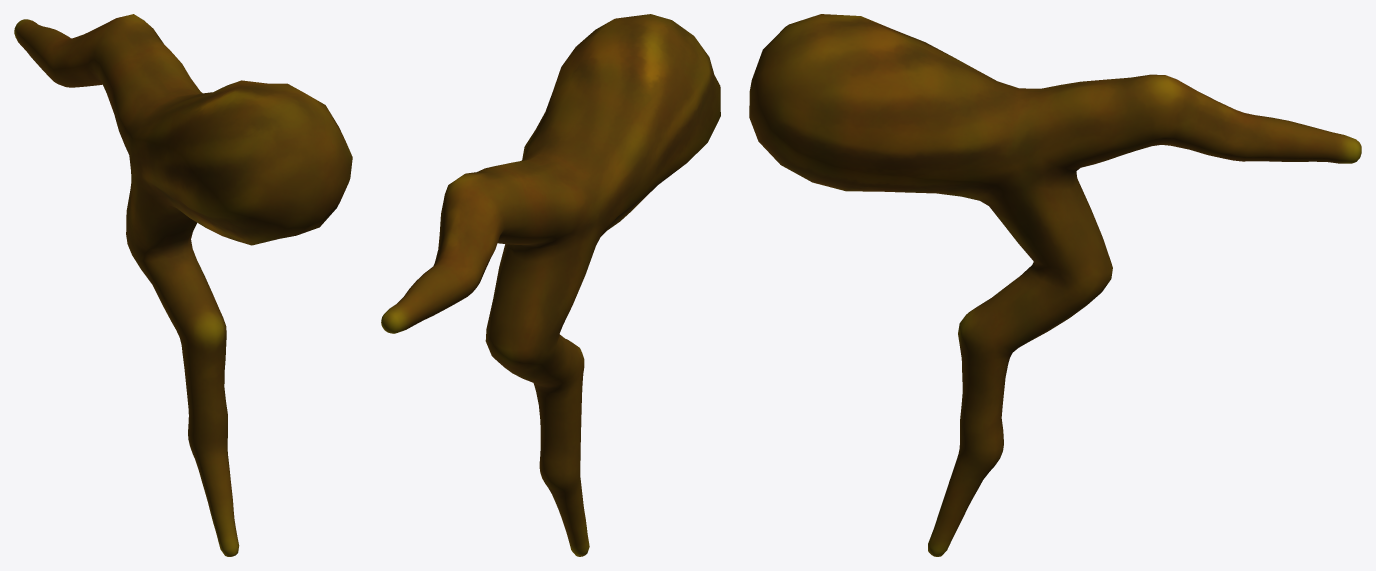
3 views of the same model, side by side, from view 1: azimuth 30°, elevation 25°; view 2: azimuth 150°, elevation 25°; view 3: azimuth 270°, elevation 25° (orthographic). The views are drawn at different scales.
Parts seen in each view (by area): view 1: SM_Root_8_LOD0; view 2: SM_Root_8_LOD0; view 3: SM_Root_8_LOD0.
Boxes of the visible parts, x1=… form: SM_Root_8_LOD0: x1=14, y1=14, x2=352, y2=556; SM_Root_8_LOD0: x1=381, y1=14, x2=720, y2=556; SM_Root_8_LOD0: x1=749, y1=14, x2=1361, y2=556.
Size of the model in its own units: 33.73 by 122 by 116.
Materials: 1 (1 with a texture image).
